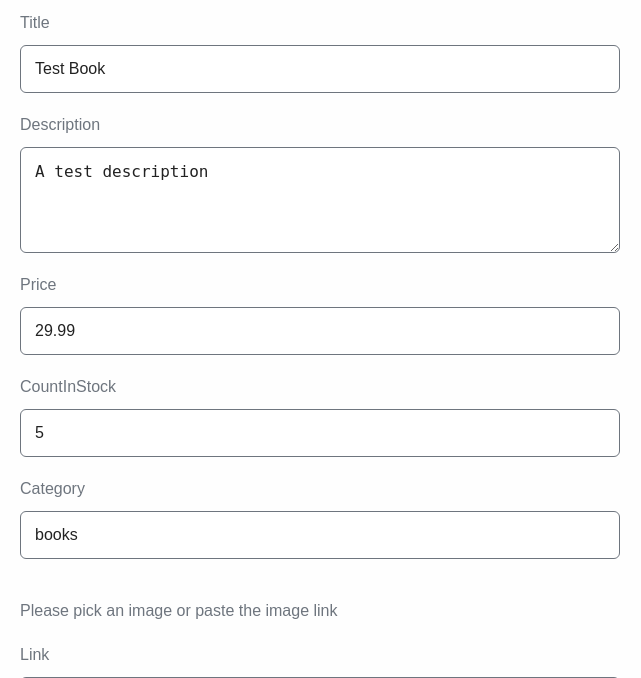
Test: ProductForm › shows validation error when description is empty and touched
Clear the text box labelled "Description" at (320, 200), box [20,147,620,253]
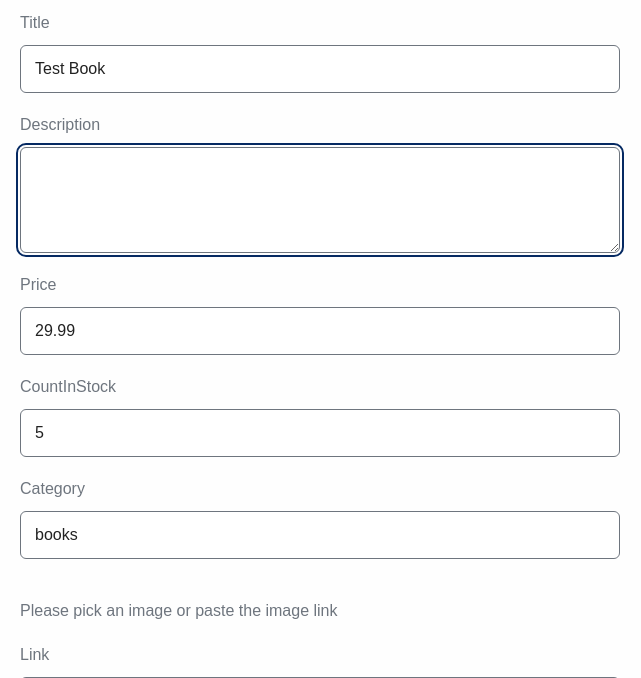
Press Tab
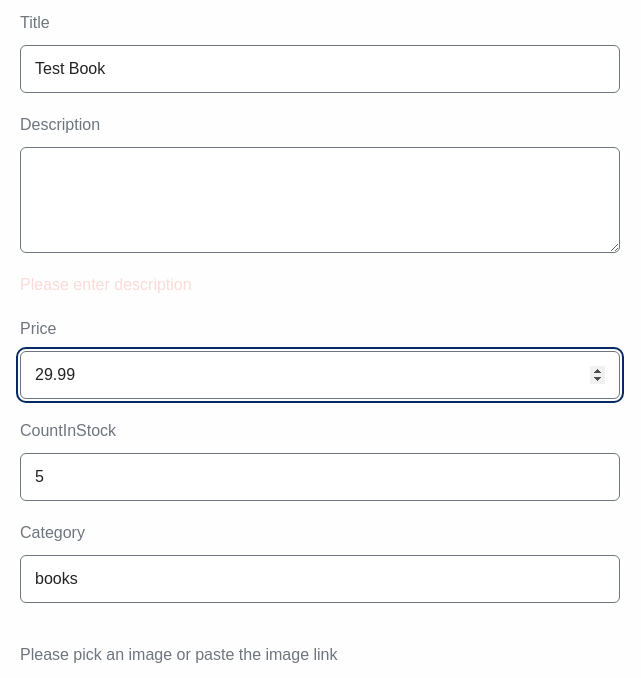
Now the text "Please enter description" is shown, box [20,276,192,293]
